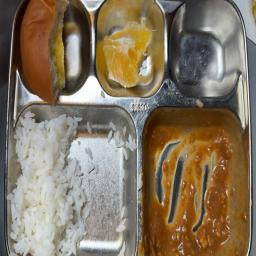50_bread: (18, 1, 91, 98)
50_orange: (100, 15, 162, 94)
50_rice: (8, 102, 136, 256)
empty: (145, 113, 244, 256), (173, 17, 233, 92)
